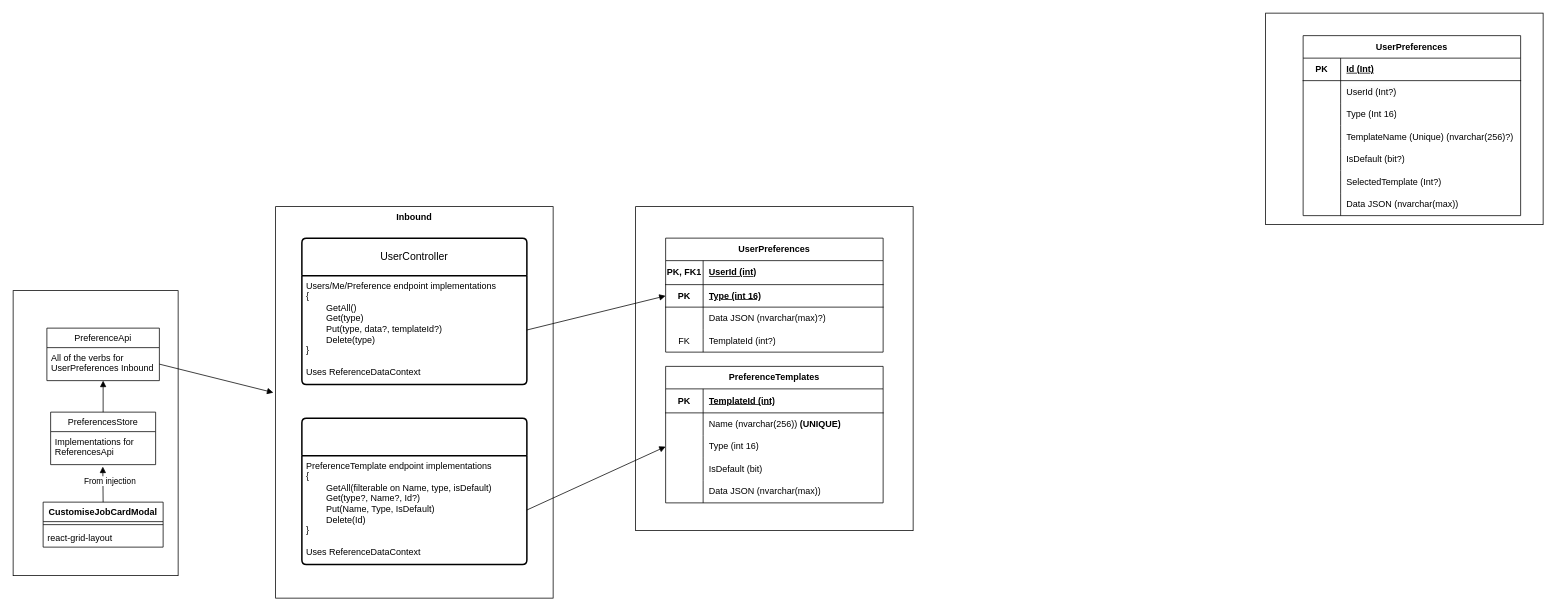
The diagram is 1556 pixels wide and 611 high, and some of its shapes have lost their labels. Here are the shapes that lost their labels. From the top down, the box of each, then its label:
(1265, 12, 1543, 225): Database Idea 1. Too much. Too cluttered. Don't like.
(635, 206, 913, 531): Database
(12, 290, 178, 576): Dispatch
(301, 417, 527, 565): PreferenceTemplateController
